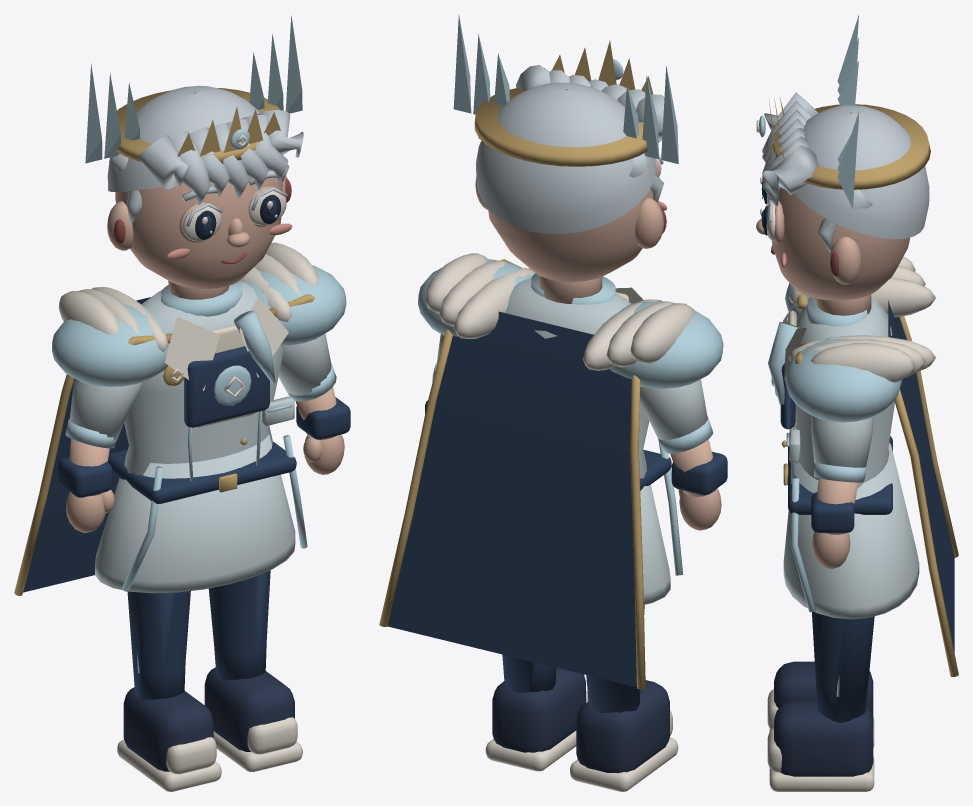
The model's file is xingyin-characters-v1__elite_frost_master.glb.
3 renders of one model, left to right at view 1: azimuth 30°, elevation 25°; view 2: azimuth 150°, elevation 25°; view 3: azimuth 270°, elevation 25°, orthographic. The views are drawn at different scales.
Parts seen in each view (by area): view 1: figure.016; view 2: figure.016; view 3: figure.016.
Part boxes in pixels (x1=…): figure.016: x1=14, y1=15, x2=350, y2=791; figure.016: x1=379, y1=15, x2=727, y2=791; figure.016: x1=756, y1=15, x2=958, y2=791.
Bounding box in the file's own units: 1.23 × 2.96 × 0.7785.
